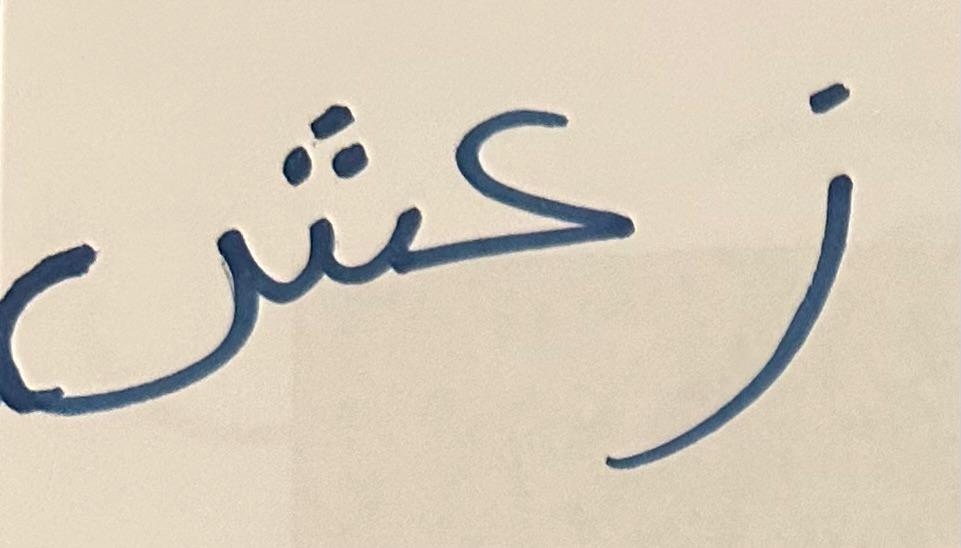ain: (438, 40, 648, 333)
hamza: (652, 48, 945, 518)
tah: (0, 26, 433, 462)
